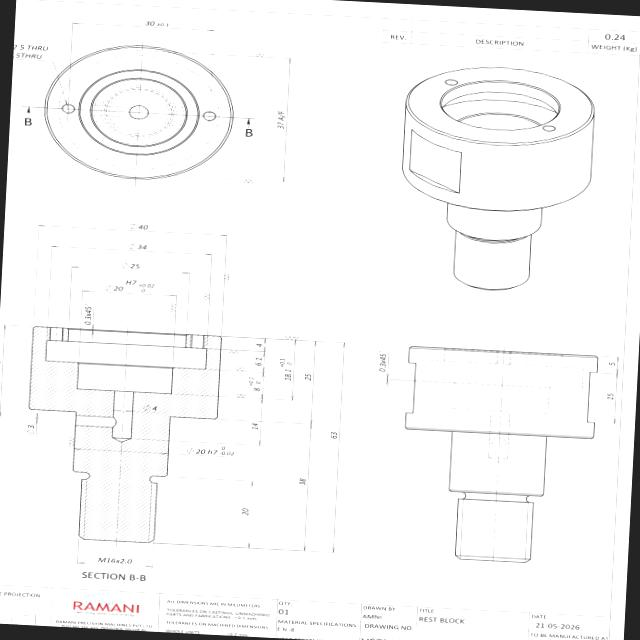dimension: (102, 278, 156, 294), (185, 443, 238, 457), (13, 43, 50, 60), (277, 358, 294, 382), (96, 556, 134, 565), (144, 18, 172, 28), (120, 260, 142, 272), (84, 303, 94, 326), (247, 377, 262, 392), (128, 222, 150, 232), (378, 350, 388, 372), (276, 110, 286, 130), (128, 242, 148, 252), (142, 403, 158, 412), (25, 424, 37, 436), (254, 357, 264, 367), (304, 372, 314, 382), (329, 431, 339, 440), (298, 478, 308, 487), (606, 392, 615, 402), (251, 422, 260, 431), (240, 508, 250, 516), (608, 360, 618, 367), (255, 342, 264, 348), (0, 359, 2, 373)
